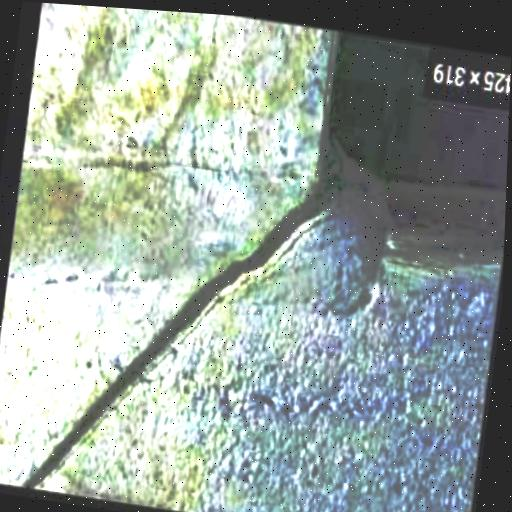crack: (24, 185, 341, 486)
